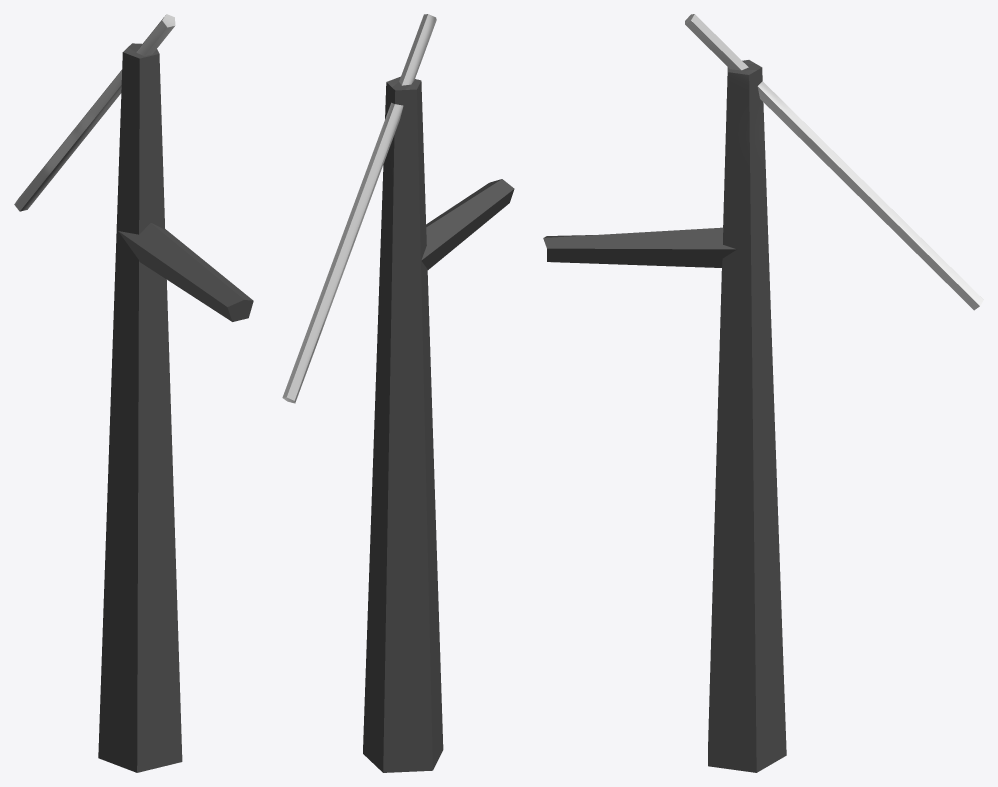
File: tap.fbx
3 views of the same model, side by side, from view 1: azimuth 30°, elevation 25°; view 2: azimuth 150°, elevation 25°; view 3: azimuth 270°, elevation 25° (orthographic). The views are drawn at different scales.
Visible parts, largest first — view 1: Cylinder; view 2: Cylinder; view 3: Cylinder.
Part boxes in pixels (x1,y1,x2,y2): Cylinder: [14, 14, 253, 772]; Cylinder: [282, 14, 514, 772]; Cylinder: [543, 14, 983, 772].
Size of the model in its own units: 0.245 by 2.42 by 1.31.
Materials: 1 (1 with a texture image).
